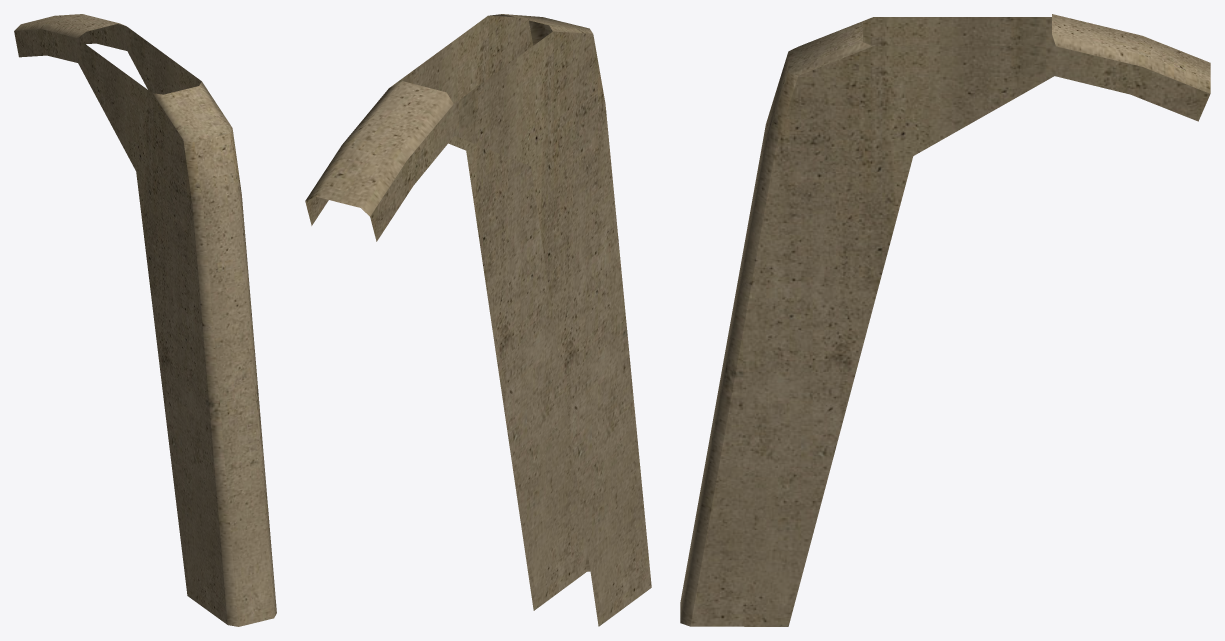
Rendered from wall_thing-half.fbx.
3 views of the same model, side by side, from view 1: azimuth 30°, elevation 25°; view 2: azimuth 150°, elevation 25°; view 3: azimuth 270°, elevation 25° (orthographic). The views are drawn at different scales.
Parts seen in each view (by area): view 1: wall_thing-half; view 2: wall_thing-half; view 3: wall_thing-half.
Part boxes in pixels (x1,y1,x2,y2): wall_thing-half: (14, 14, 276, 626); wall_thing-half: (305, 14, 651, 626); wall_thing-half: (680, 14, 1210, 626).
Size of the model in its own units: 18.6 by 175 by 143.
